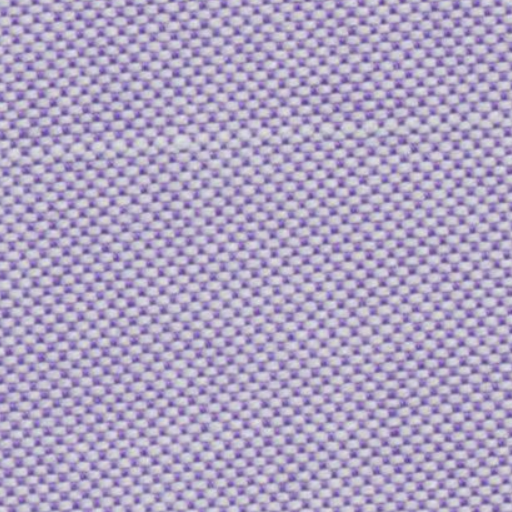TuoSha: (20, 112, 496, 178)
